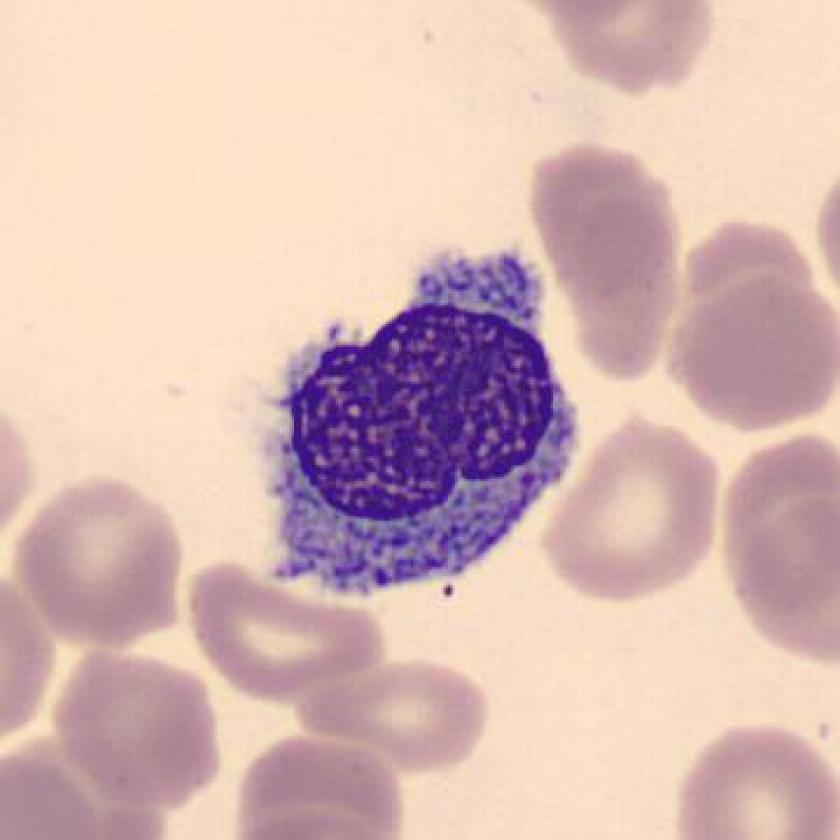monocyte: (237, 232, 608, 633)
